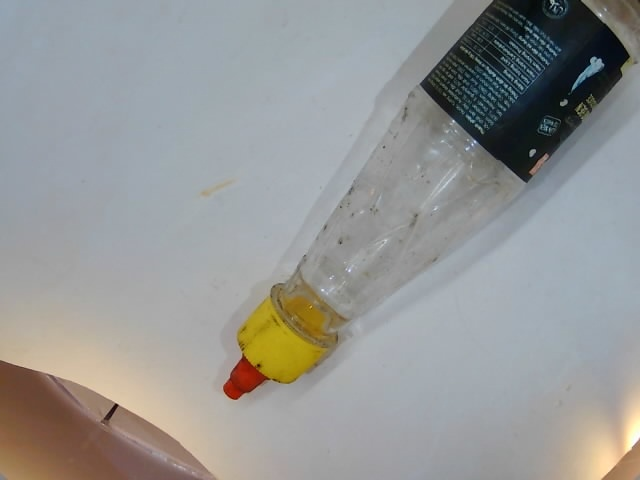plastic: (219, 0, 639, 397)
